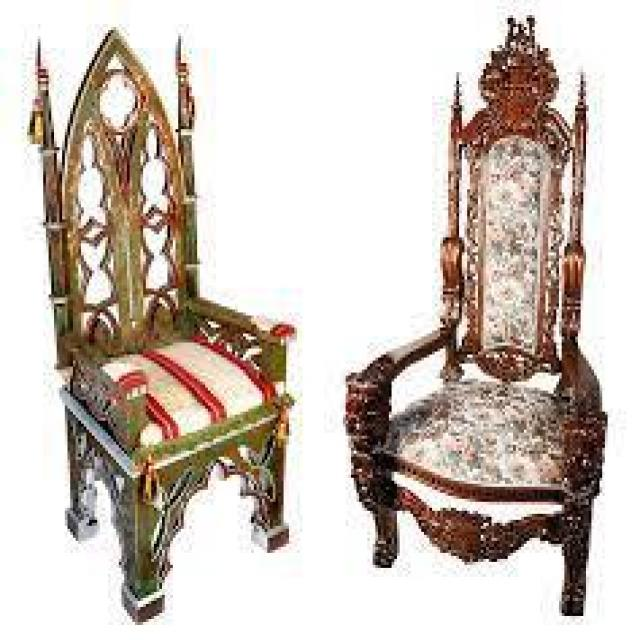chair: (19, 12, 605, 622)
